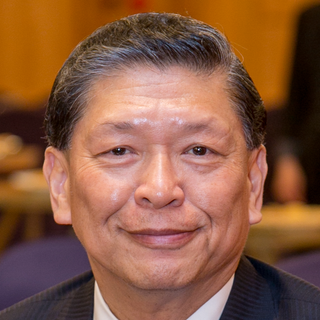eye: (95, 140, 142, 164), (177, 140, 224, 164)
